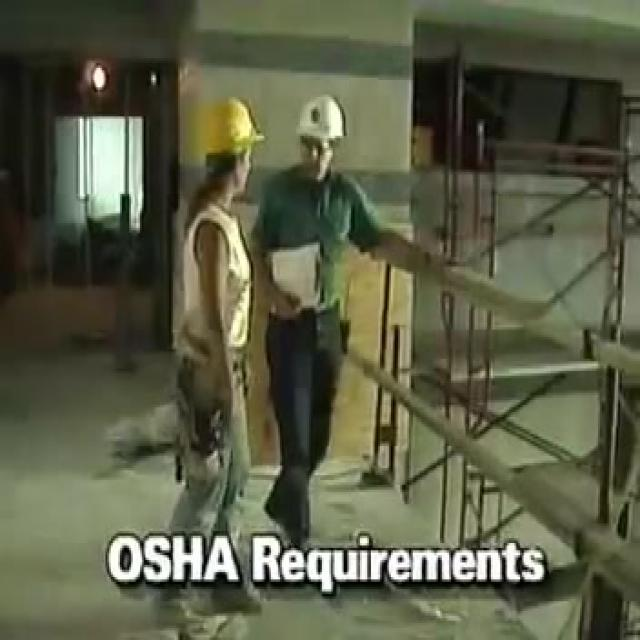Reflective-Jacket: (256, 182, 373, 349), (167, 192, 271, 376)
Safety-Helmet: (162, 85, 273, 191), (285, 82, 360, 162)
